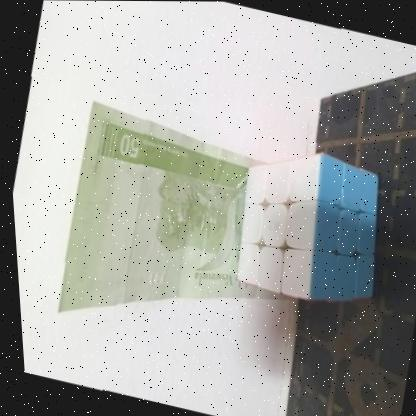fifty-back-vef: (41, 97, 329, 367)
